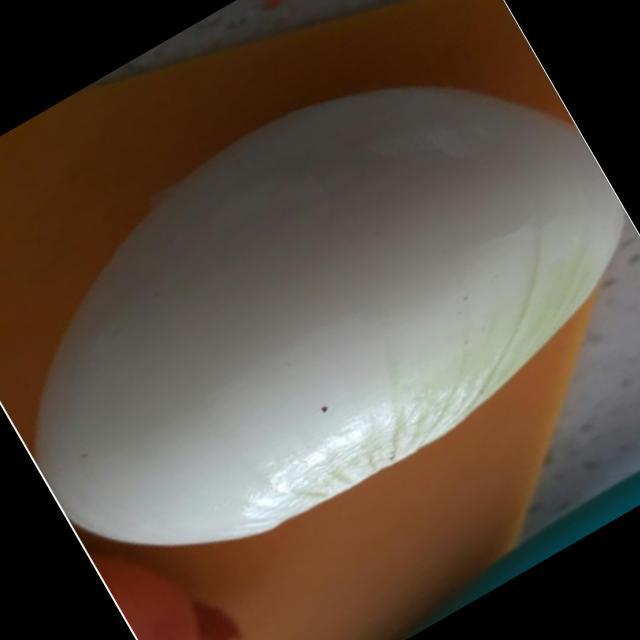Onion: (49, 83, 622, 545)
